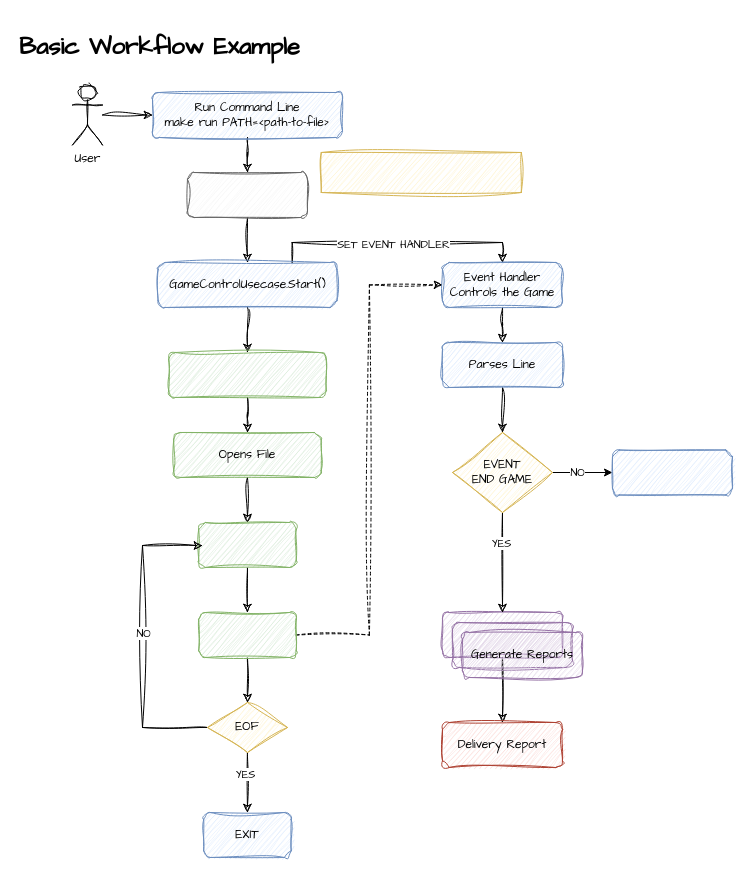
Image size: 750x875. Some labels were removed from this diagram. The shapes that lost their labels are listed below. From the top down, each one's centre as x and y in pixels, then its label:
point (420, 172): Initialize GameControlUsecase and its dependencies
point (247, 195): main.go
point (247, 375): EventDispatcher.Start()
point (672, 472): Update Game
point (247, 545): Read line
point (247, 635): PublishEvent
